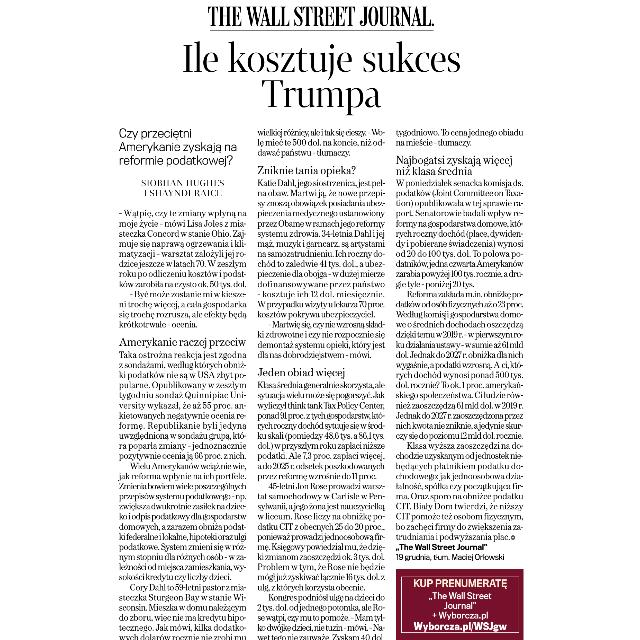author: (135, 176, 231, 198)
body: (256, 126, 390, 640), (394, 124, 528, 564), (115, 206, 249, 640)
lead: (115, 124, 242, 172)
title: (179, 2, 471, 118)
